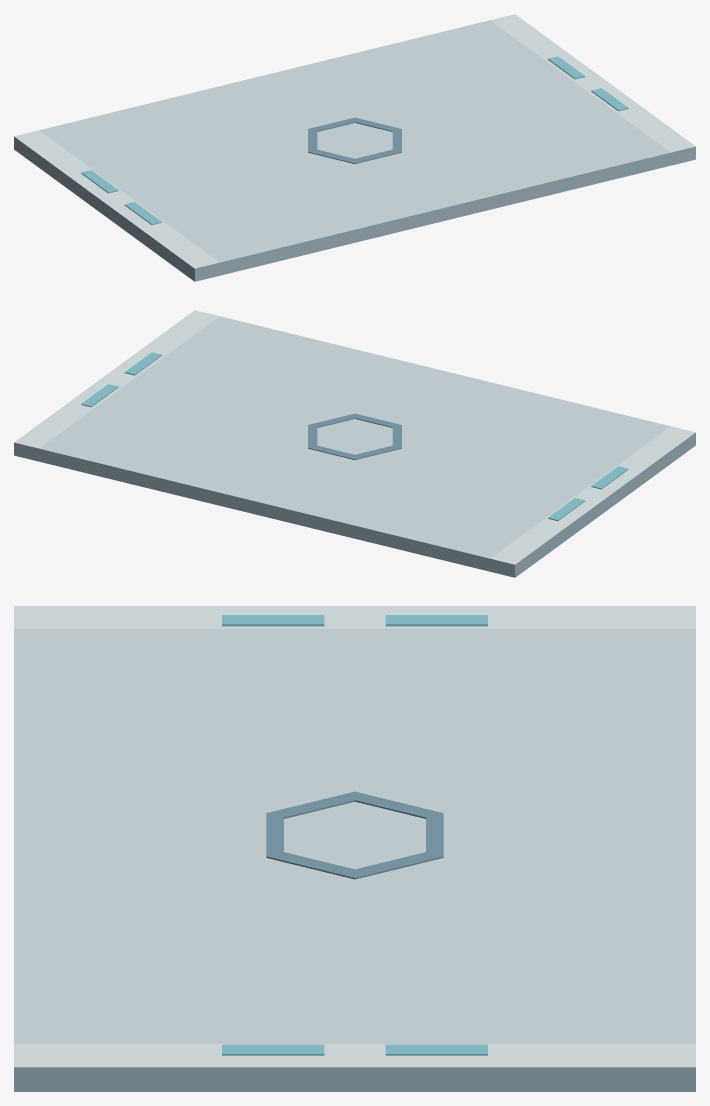
Rendered from campus_walk_short_v01.glb.
3 views of the same model, one above another, from view 1: azimuth 30°, elevation 25°; view 2: azimuth 150°, elevation 25°; view 3: azimuth 270°, elevation 25° (orthographic). The views are drawn at different scales.
Visible parts, largest first — view 1: campus_walk_short; view 2: campus_walk_short; view 3: campus_walk_short.
Boxes of the visible parts, x1,y1,x2,y2 form: campus_walk_short: (14, 14, 695, 281); campus_walk_short: (14, 310, 695, 577); campus_walk_short: (14, 606, 695, 1091).
Size of the model in its own units: 3.2 by 0.087 by 2.
1 material, 1 textured.
